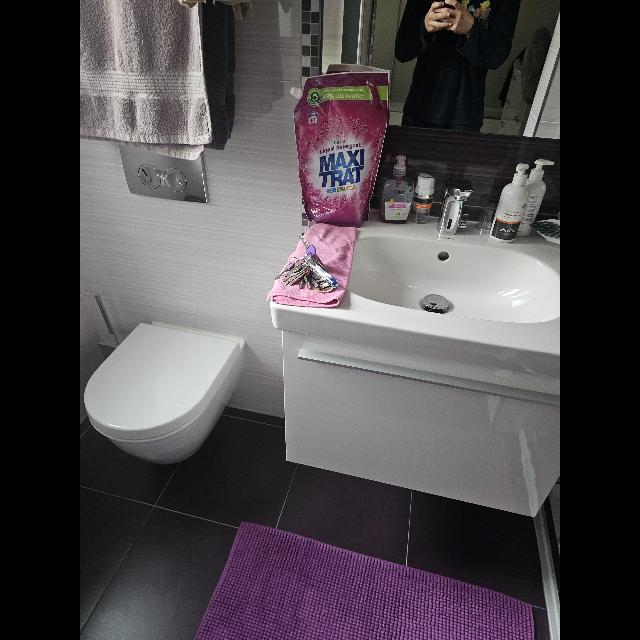Keys: (279, 239, 329, 291)
